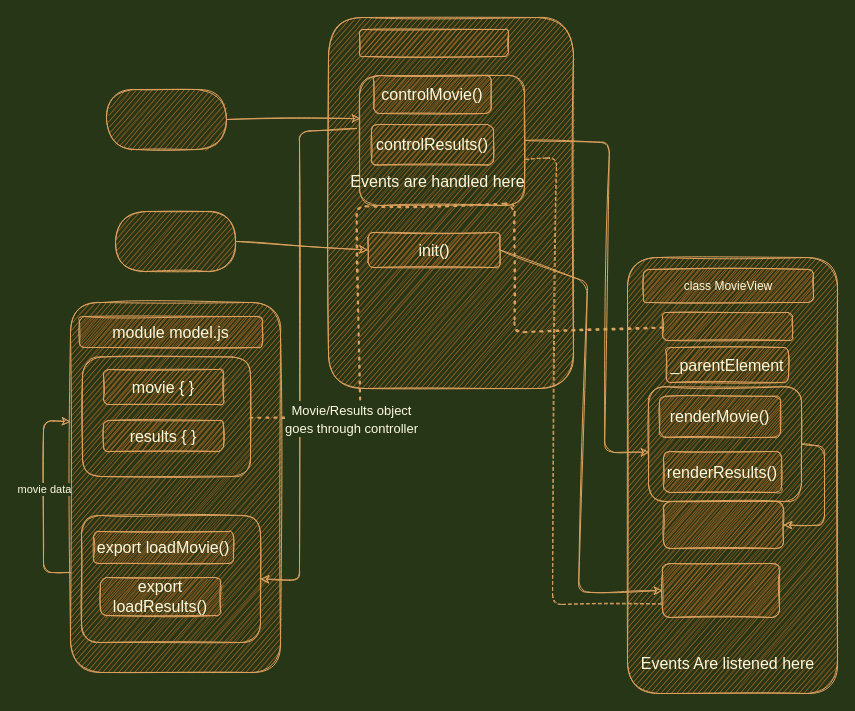
This 855x711 diagram has some shape labels left out. The box of each missing label's shape, as (x1, y1, x2, y2) in pixels:
_data: (662, 312, 792, 340)
_generateMarkup(): (662, 500, 784, 548)
addHandlerRender(): (662, 562, 780, 618)
module controler.js: (358, 28, 508, 56)
Page Load: (114, 210, 236, 272)
User clicks seach/ movie: (106, 88, 226, 150)
